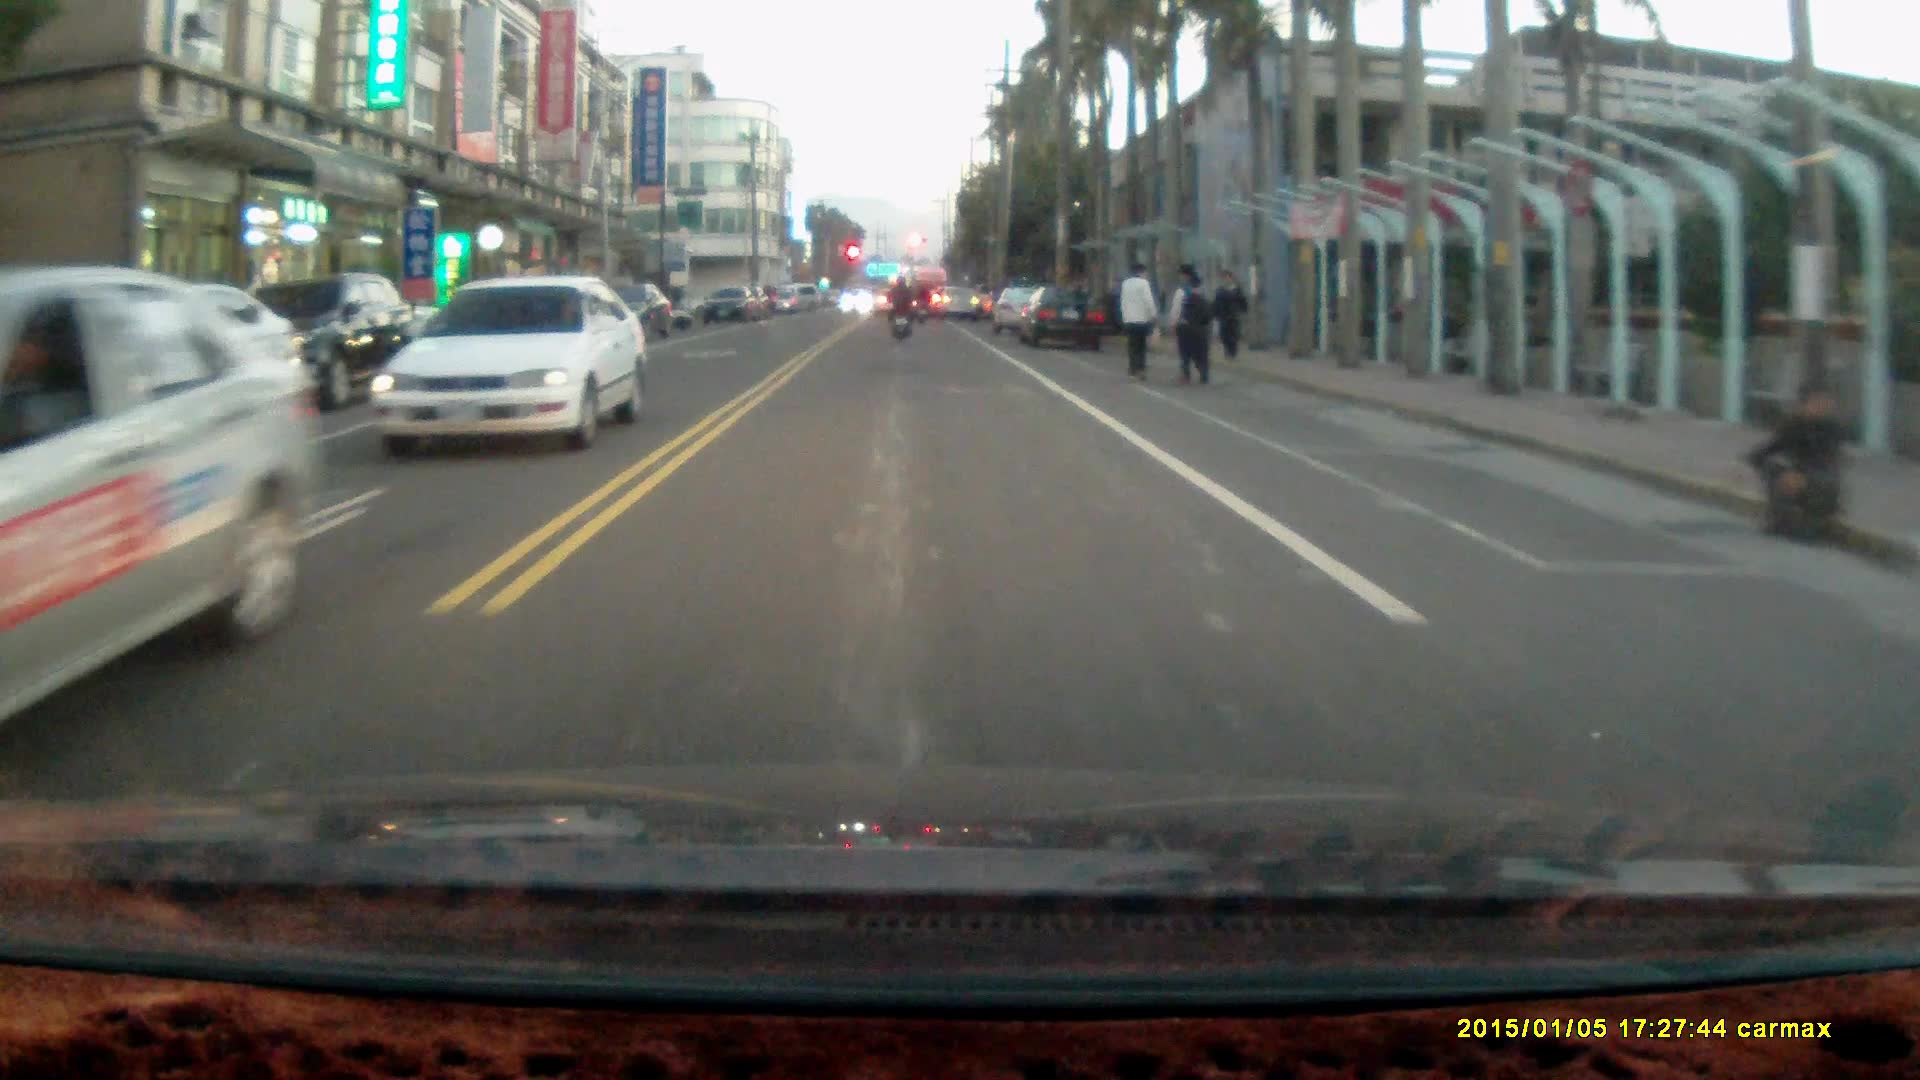pedestrian: (1742, 388, 1847, 549), (1117, 259, 1159, 387), (1176, 278, 1215, 393), (1214, 269, 1248, 366)
rider: (884, 272, 915, 342)
vehicle: (1, 264, 323, 727), (375, 277, 646, 447), (1019, 286, 1108, 351)
